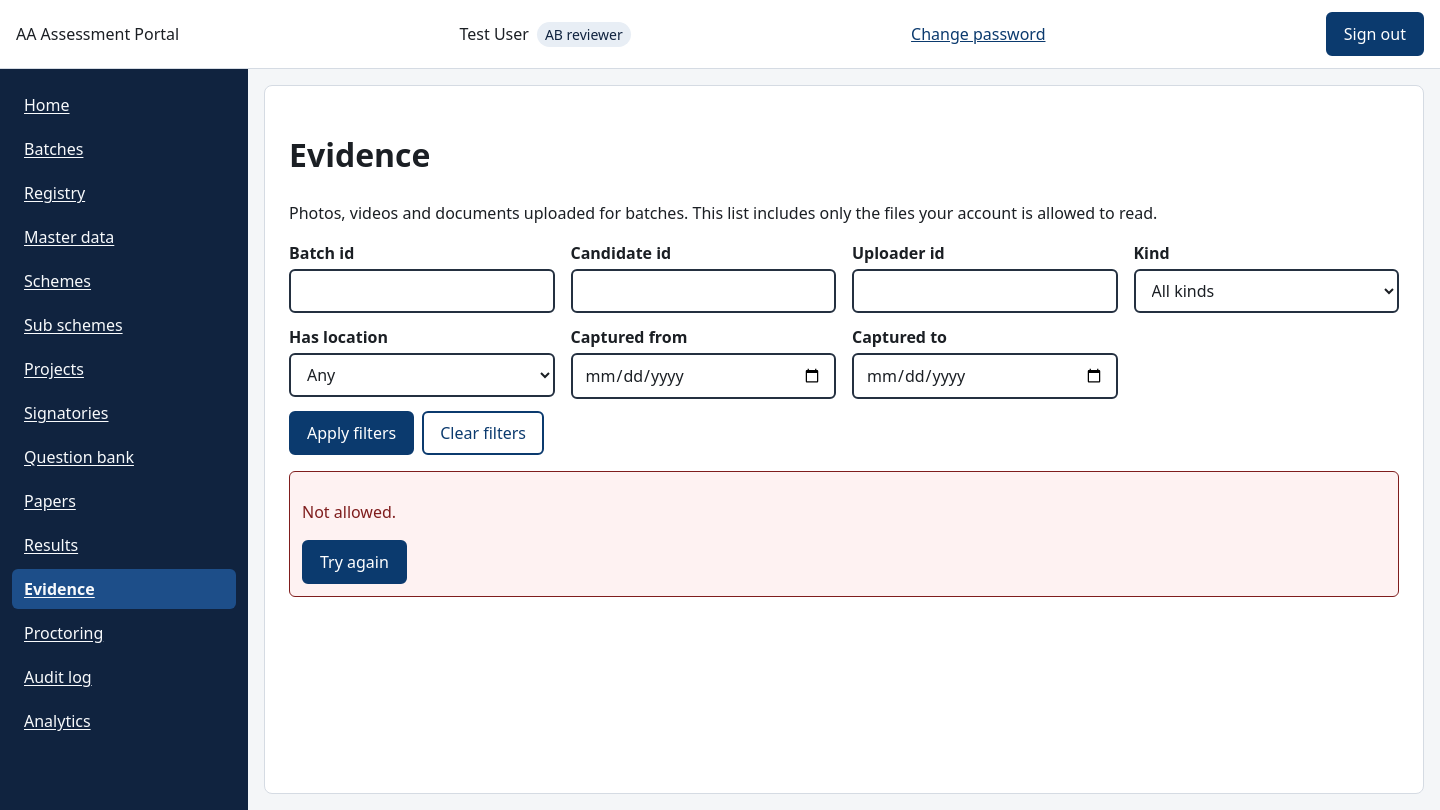
Test: shows a loading message, then an error with a working retry
Expected: the text "Not allowed." is shown, 302,501 -> 396,523
Click the button "Try again": {"x": 354, "y": 562} 302,540 -> 407,584
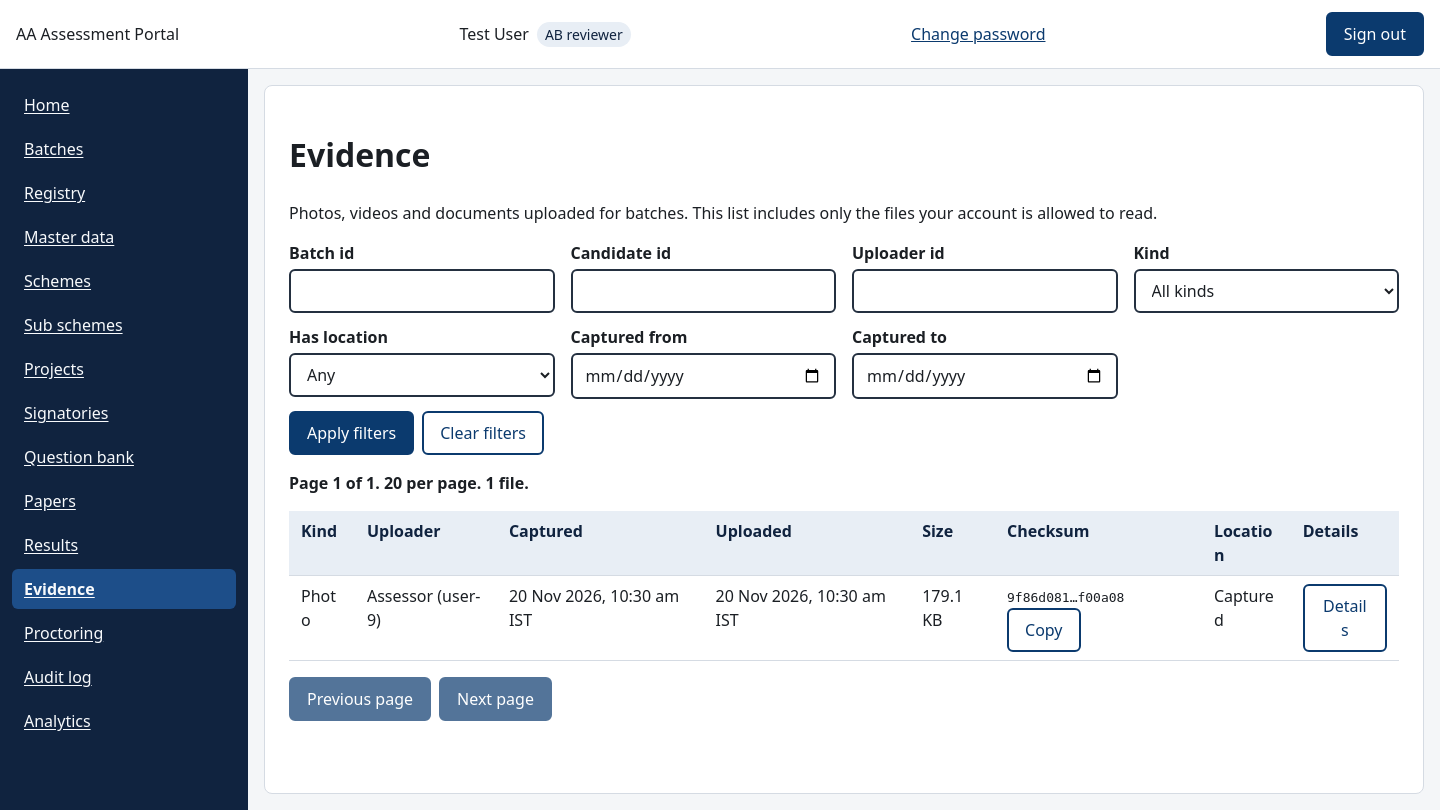
Now the table named "Evidence files" is shown, box 289,511 -> 1399,661
